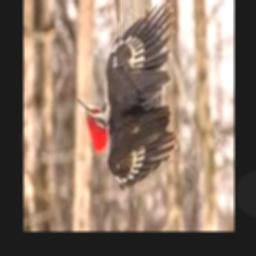Woodpecker: (77, 0, 178, 190)
